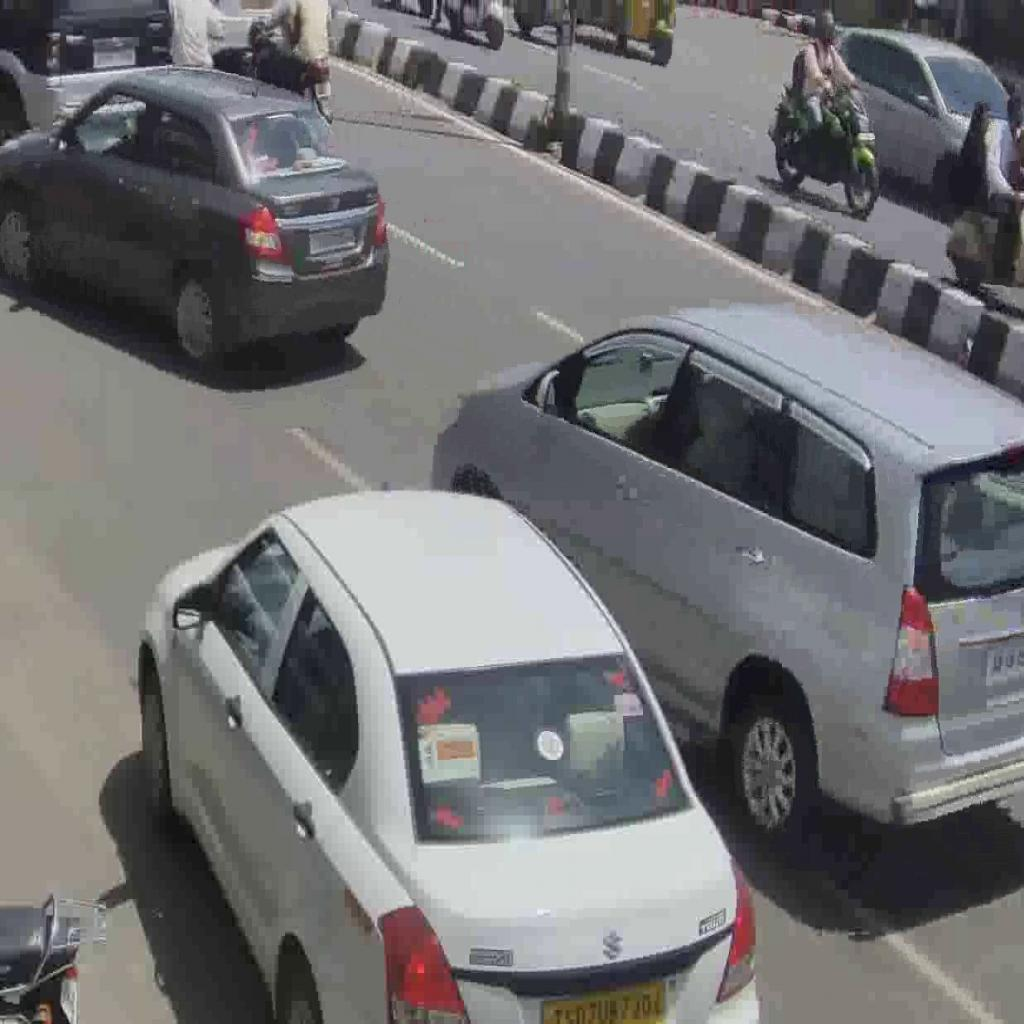helmet: (769, 81, 877, 218), (243, 12, 336, 122)
